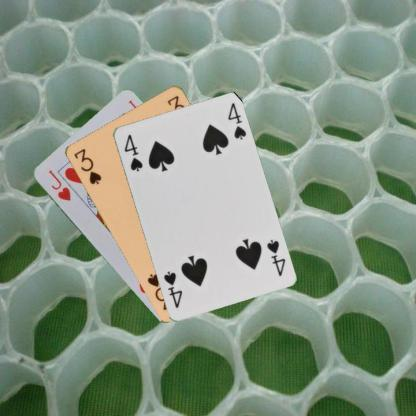3s: (70, 146, 103, 186)
4s: (121, 131, 144, 173), (264, 236, 286, 278)
Jh: (45, 167, 72, 202)
